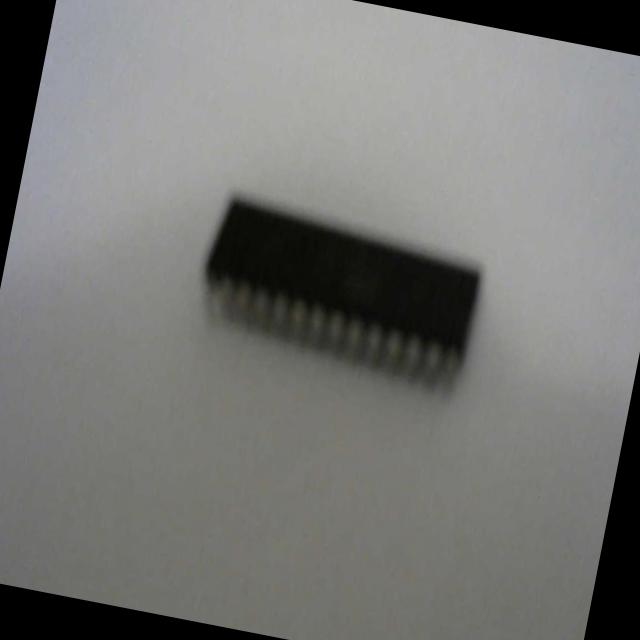atmega: (186, 183, 493, 400)
